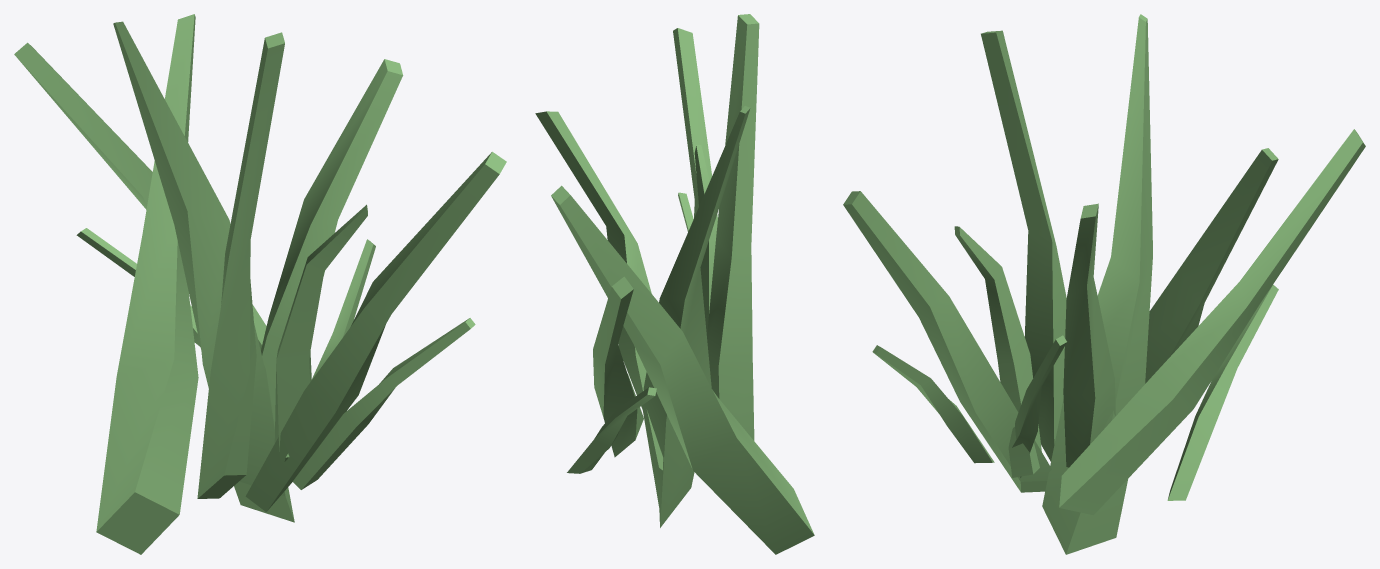
Rendered from Plants_Pack_Grass_blade_06.fbx.
The picture shows the model from 3 angles, left to right: view 1: azimuth 30°, elevation 25°; view 2: azimuth 150°, elevation 25°; view 3: azimuth 270°, elevation 25°; orthographic projection. The views are drawn at different scales.
Visible parts, largest first — view 1: Plants_Pack_Grass_blade_06; view 2: Plants_Pack_Grass_blade_06; view 3: Plants_Pack_Grass_blade_06.
Boxes of the visible parts, x1,y1,x2,y2 form: Plants_Pack_Grass_blade_06: (14,14,506,554); Plants_Pack_Grass_blade_06: (535,14,814,554); Plants_Pack_Grass_blade_06: (843,14,1365,554).
Size of the model in its own units: 7.84 by 13.14 by 12.3.
